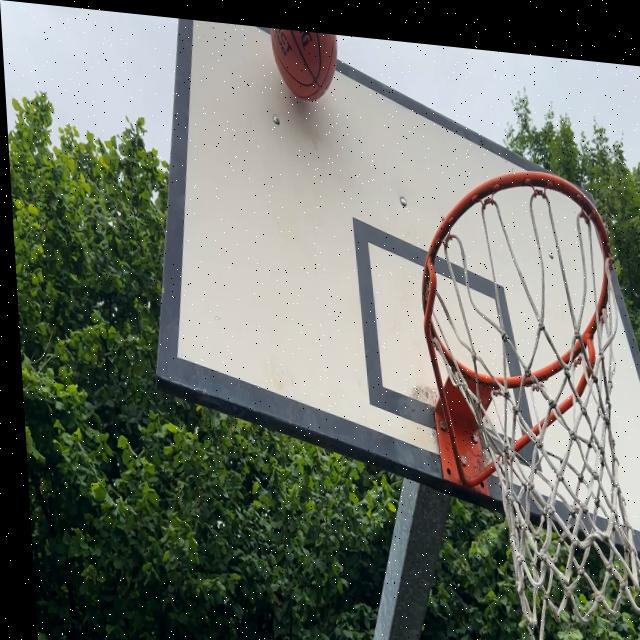rebound_hit: (271, 28, 341, 111)
